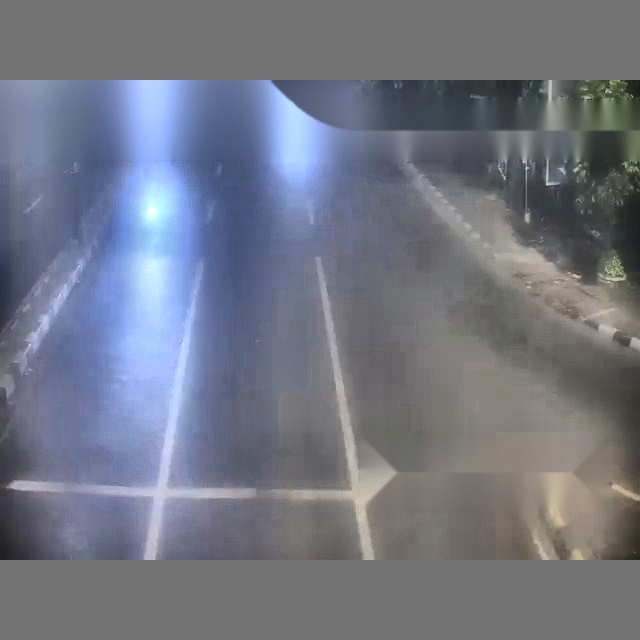Bis: (0, 80, 440, 544)
